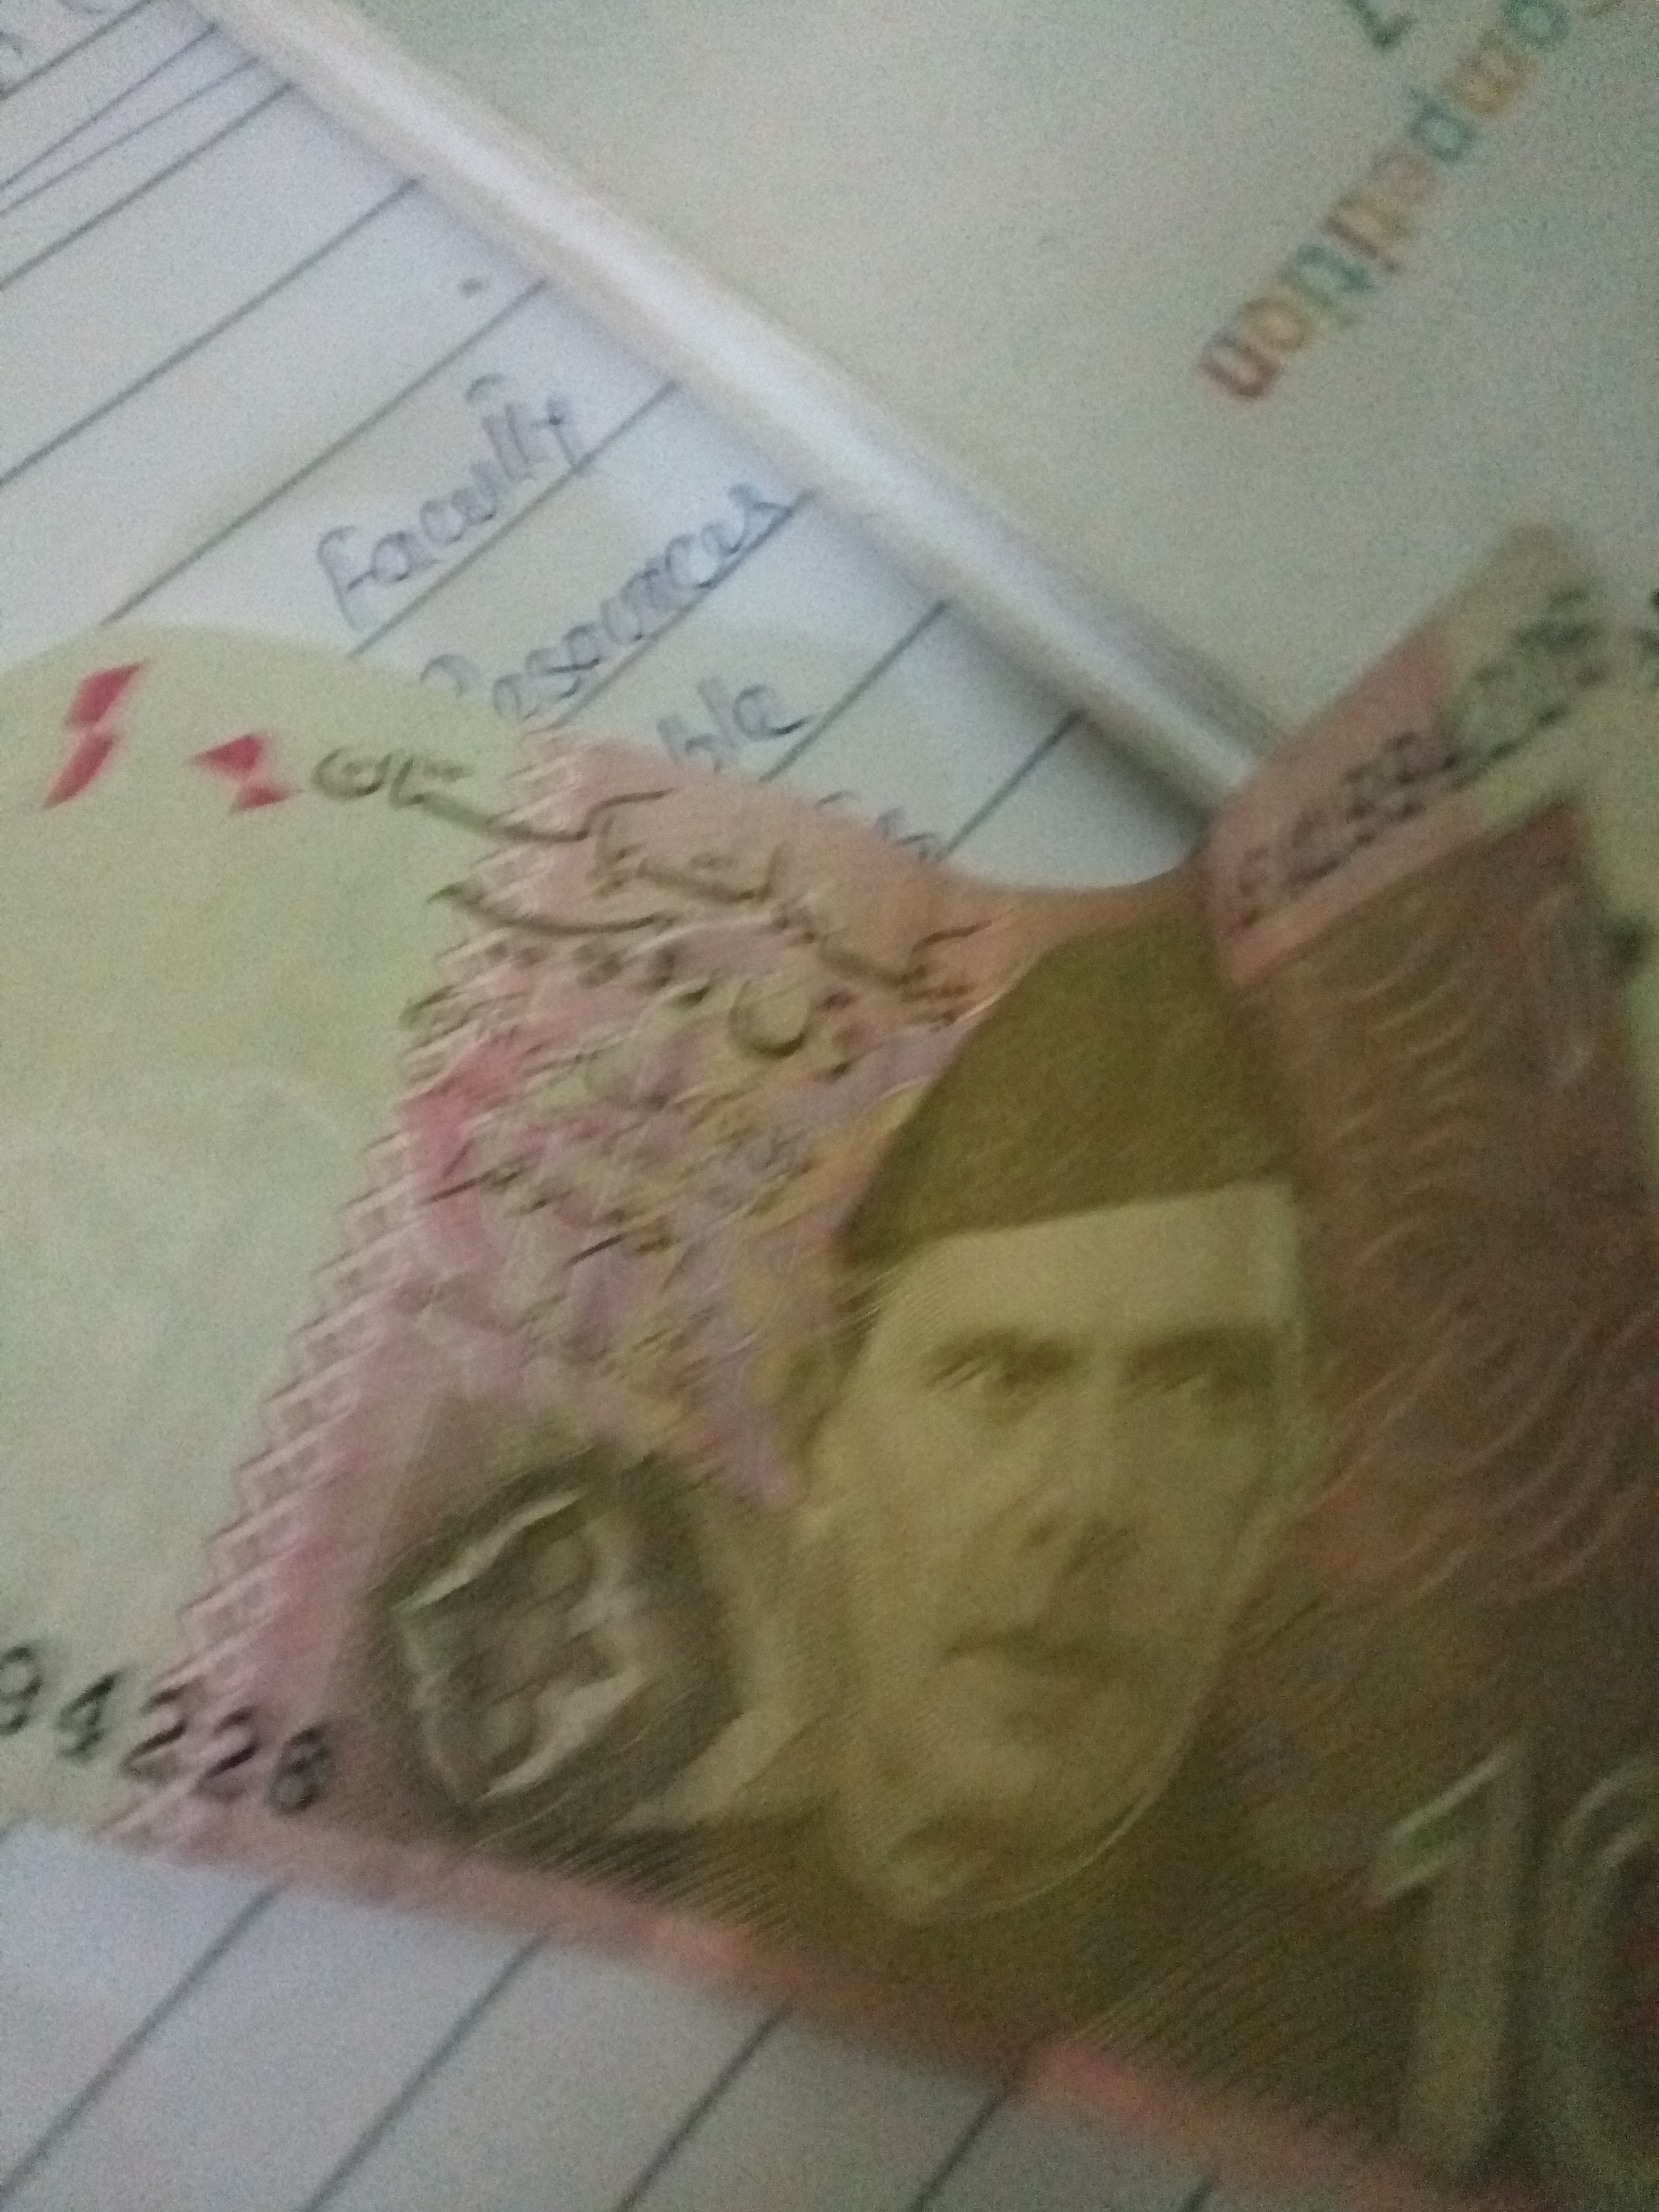10 rupee: (85, 362, 1560, 2212)
